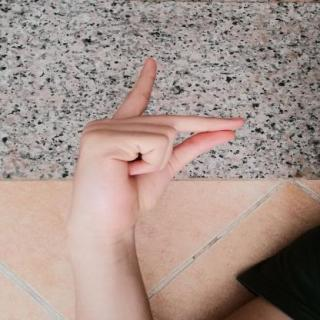TAA: (60, 51, 256, 244)
